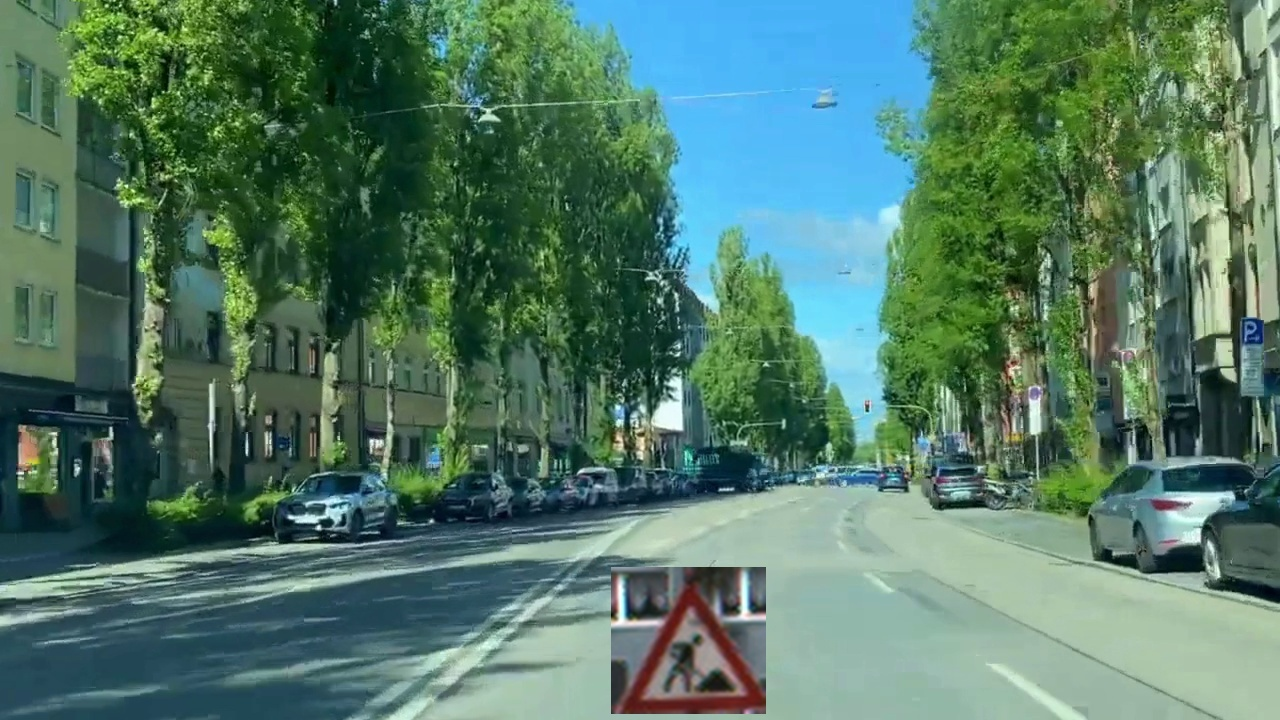Road work: (611, 567, 766, 714)
